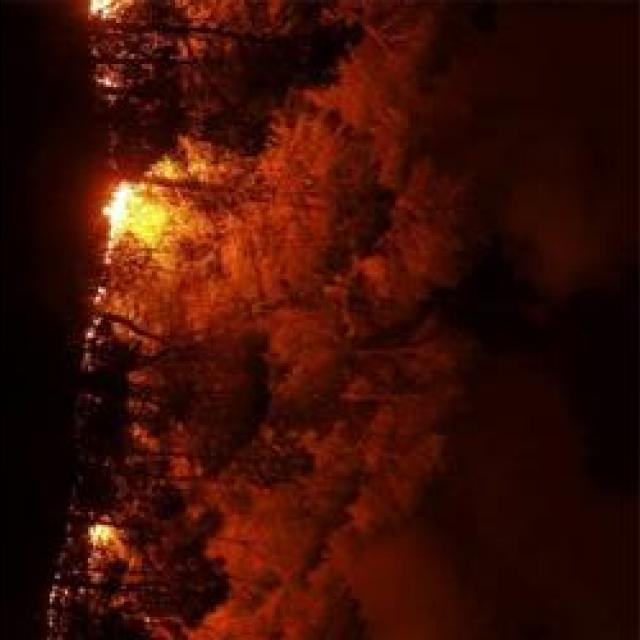fire: (98, 167, 194, 250)
